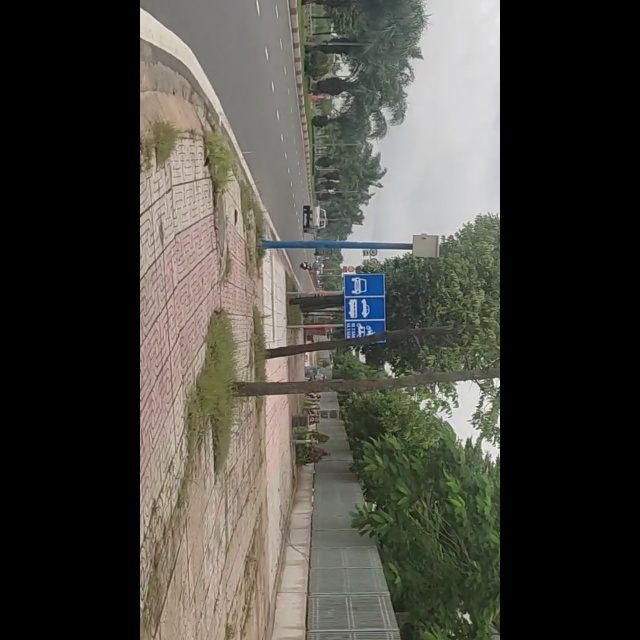bien_cam: (356, 270, 440, 343)
